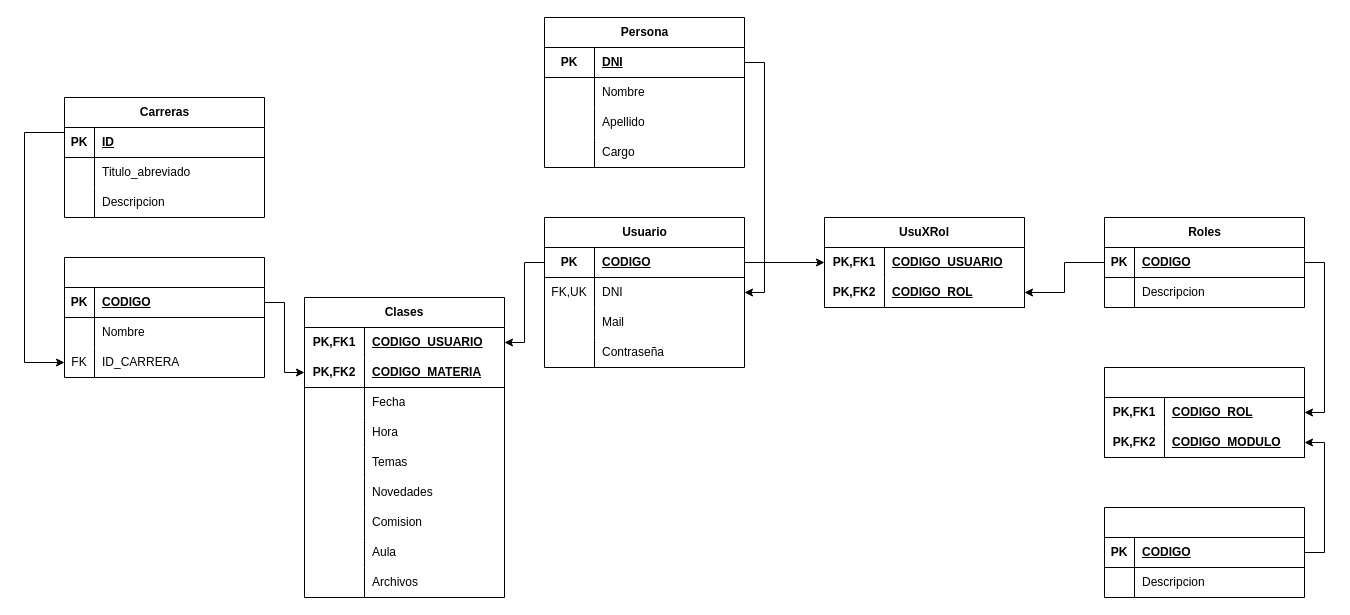
The diagram is 1350 pixels wide and 615 high, and some of its shapes have lost their labels. The shapes that lost their labels are listed below. From the top down, each one's box as (x1, y1, x2, y2) in pixels, then its label:
(64, 256, 264, 378): Materias
(1104, 366, 1304, 458): RolxMod
(1104, 506, 1304, 598): Modulos
